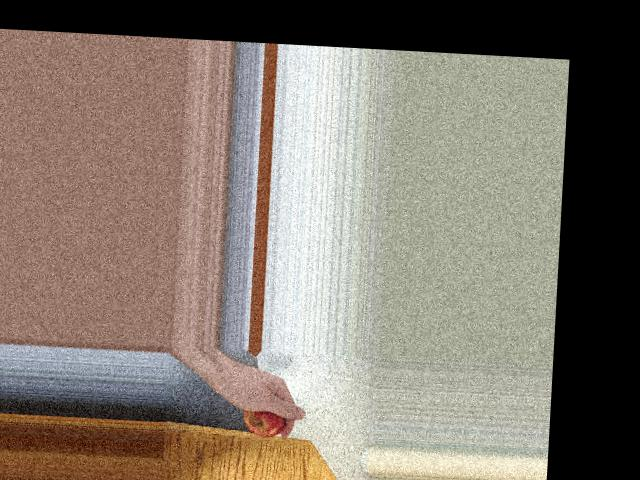apple: (248, 399, 290, 442)
